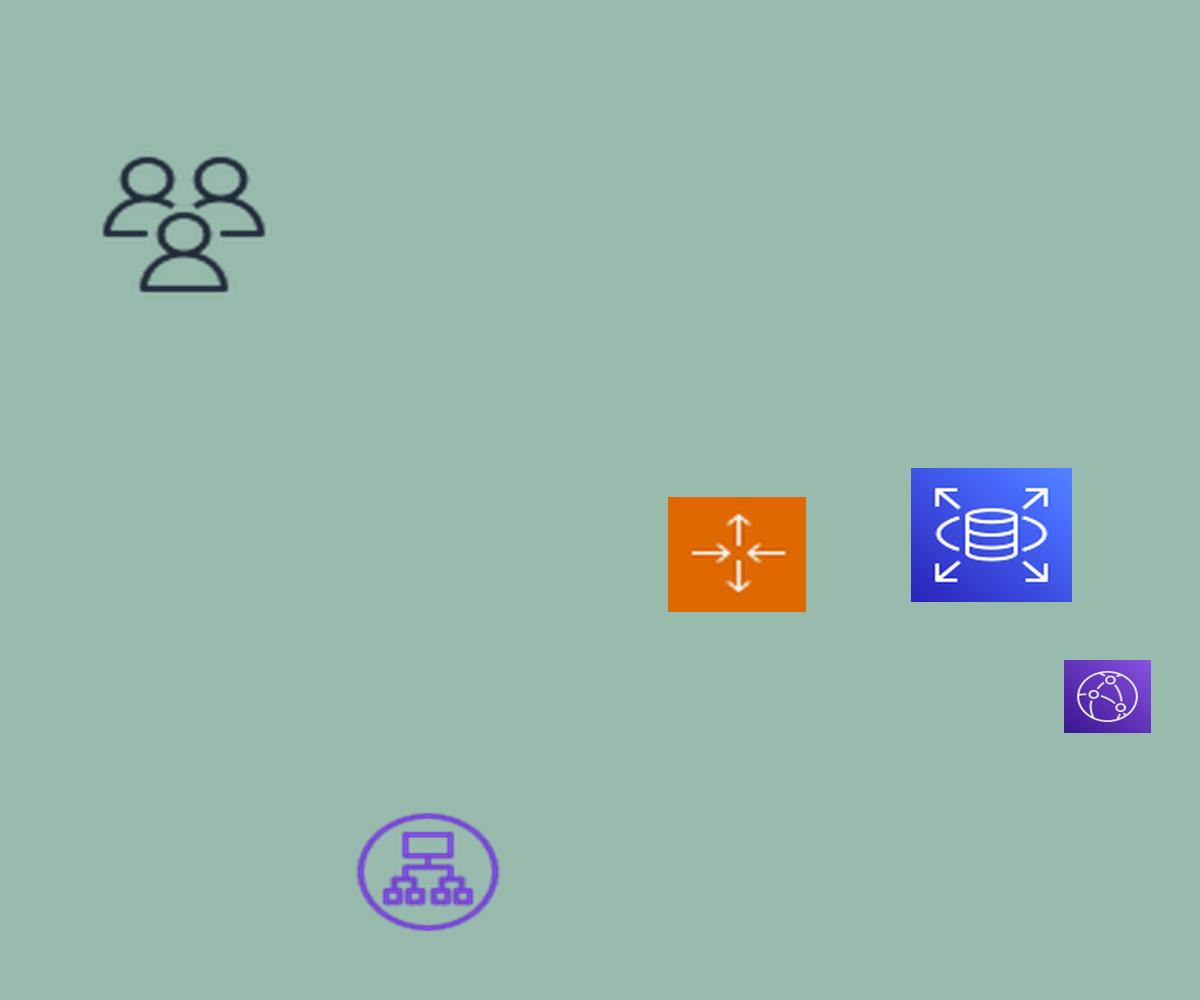AWS-CloudFront: (1064, 660, 1151, 733)
AWS-RDS: (911, 468, 1072, 602)
AWS-Res_Elastic-Load-Balancing_Application-Load-Balancer: (351, 808, 505, 936)
AWS-Res_Users: (96, 151, 272, 298)
AWS-Scaling-group: (668, 497, 806, 612)
